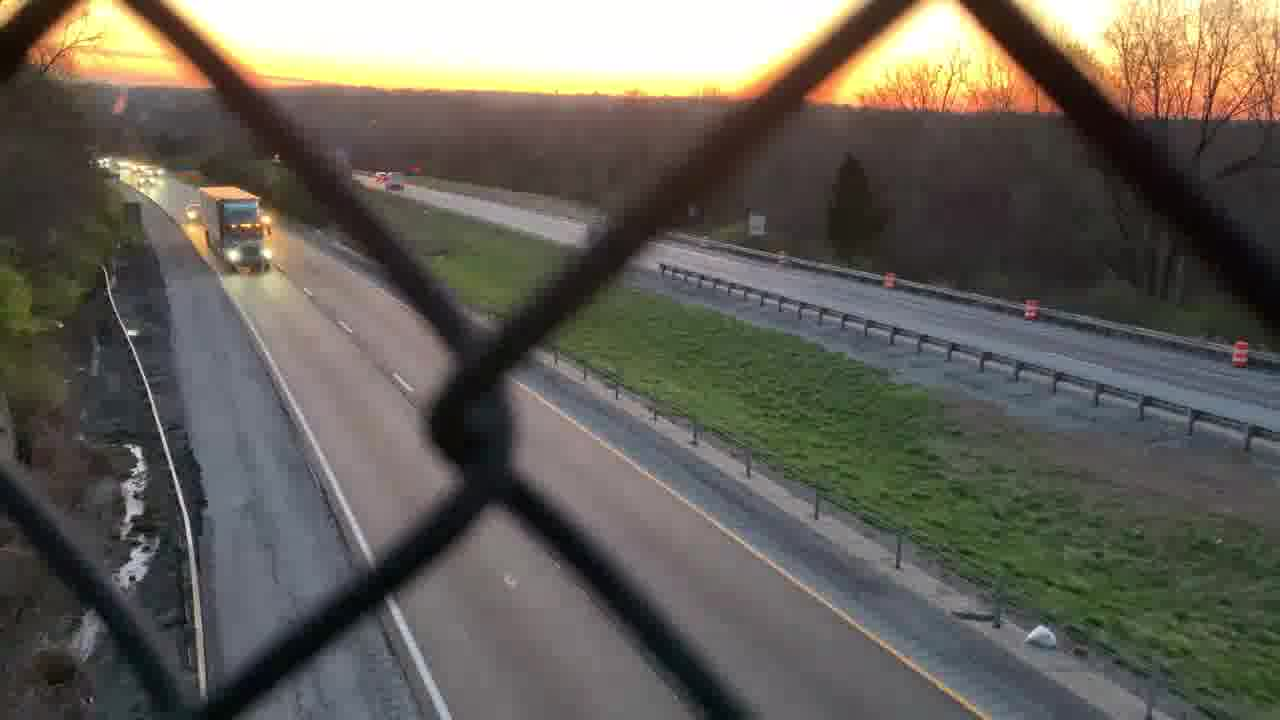heavyTruck: (201, 187, 279, 278)
